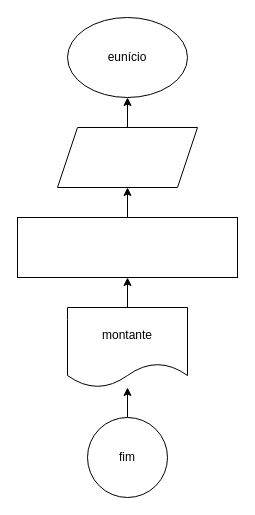
Image size: 255x515. Some labels were removed from this diagram. Each missing label, with the centre of its shape:
"capital, taxajuros, anos" belongs at point (127, 157).
"montante=capital*(1+taxajuros)**anos" belongs at point (127, 247).
